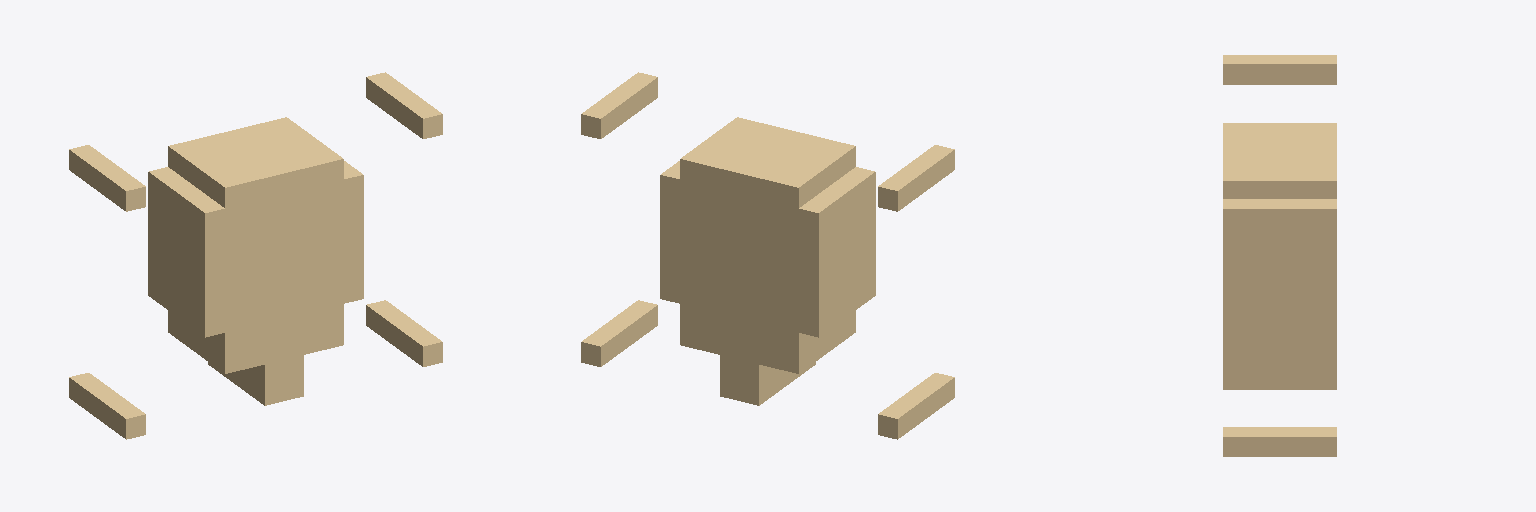
3 renders of one model, left to right at view 1: azimuth 30°, elevation 25°; view 2: azimuth 150°, elevation 25°; view 3: azimuth 270°, elevation 25°, orthographic.
Parts seen in each view (by area): view 1: lasertunnel; view 2: lasertunnel; view 3: lasertunnel.
Part boxes in pixels (bbox=[...]): lasertunnel: bbox=[69, 72, 442, 439]; lasertunnel: bbox=[581, 72, 954, 439]; lasertunnel: bbox=[1223, 55, 1336, 456].
Size of the model in its own units: 16 by 12 by 5.
Materials: 1 (1 with a texture image).